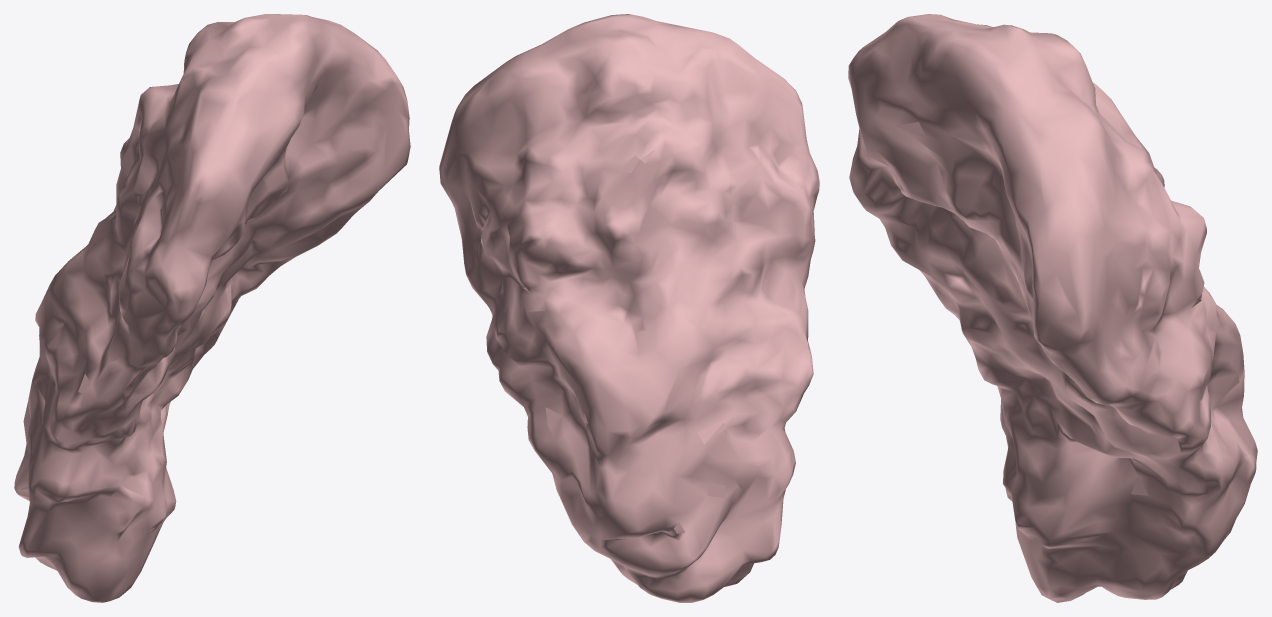
File: 3d-vh-f-palatine-tonsil-r-40.glb
The picture shows the model from 3 angles, left to right: view 1: azimuth 30°, elevation 25°; view 2: azimuth 150°, elevation 25°; view 3: azimuth 270°, elevation 25°; orthographic projection. The views are drawn at different scales.
Parts seen in each view (by area): view 1: VH_F_palatine_tonsil_R; view 2: VH_F_palatine_tonsil_R; view 3: VH_F_palatine_tonsil_R.
Boxes of the visible parts, <box> form: VH_F_palatine_tonsil_R: <box>14,14,410,602</box>; VH_F_palatine_tonsil_R: <box>439,14,819,602</box>; VH_F_palatine_tonsil_R: <box>848,14,1257,602</box>.
Size of the model in its own units: 0.0168 by 0.0239 by 0.0139.
